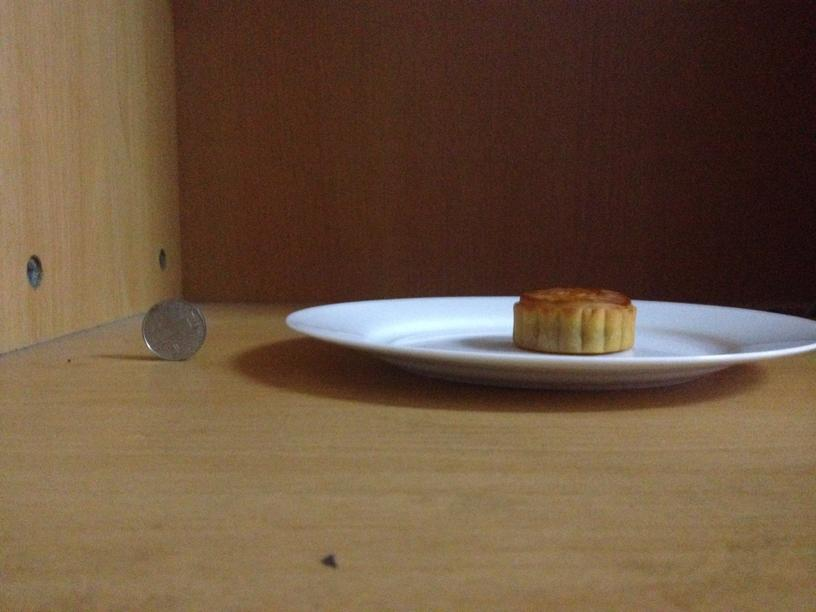coin: (139, 297, 207, 362)
mooncake: (512, 283, 637, 354)
